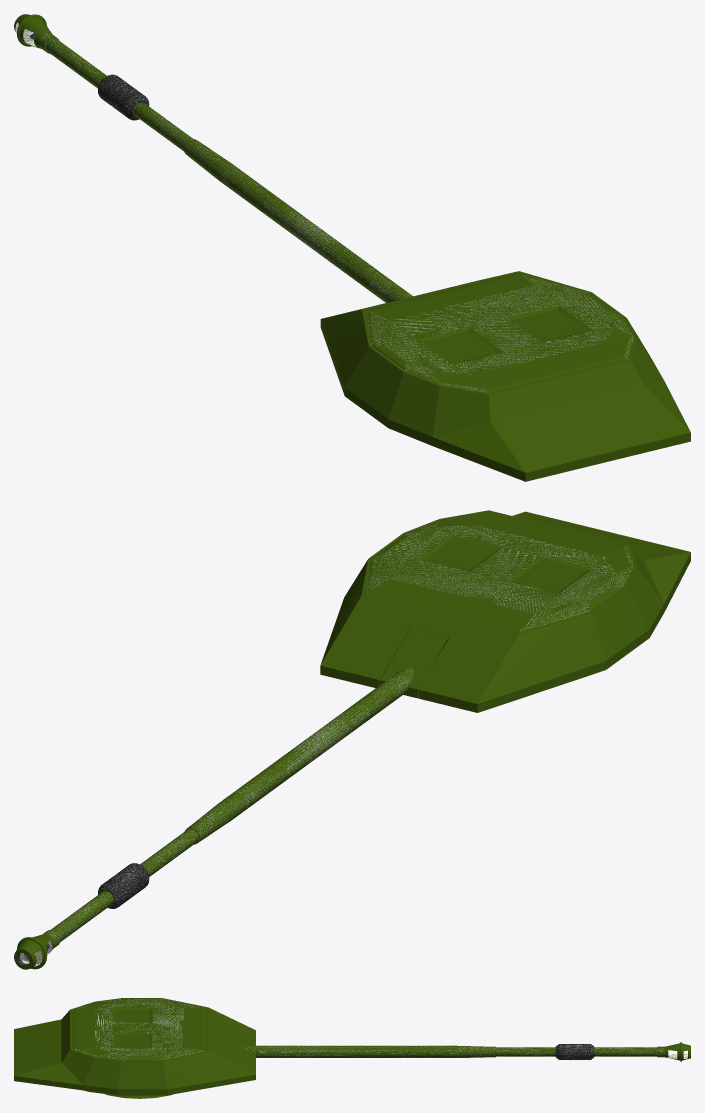
Rendered from turret.dae.
3 renders of one model, top to bottom at view 1: azimuth 30°, elevation 25°; view 2: azimuth 150°, elevation 25°; view 3: azimuth 270°, elevation 25°, orthographic. The views are drawn at different scales.
Parts seen in each view (by area): view 1: turret (×5), muzzle (×5); view 2: turret (×5), muzzle (×5), gun-laying; view 3: turret (×5), muzzle (×5), gun-laying, group_0.
Boxes of the visible parts, <box> form: turret (×5): <box>320,271,690,481</box>; muzzle (×5): <box>14,14,412,302</box>; turret (×5): <box>320,510,690,712</box>; muzzle (×5): <box>14,666,413,969</box>; gun-laying: <box>380,628,448,698</box>; turret (×5): <box>14,998,255,1095</box>; muzzle (×5): <box>243,1042,690,1061</box>; gun-laying: <box>220,1030,255,1057</box>; group_0: <box>105,1094,172,1098</box>.
Size of the model in its own units: 179 by 695 by 50.94.
